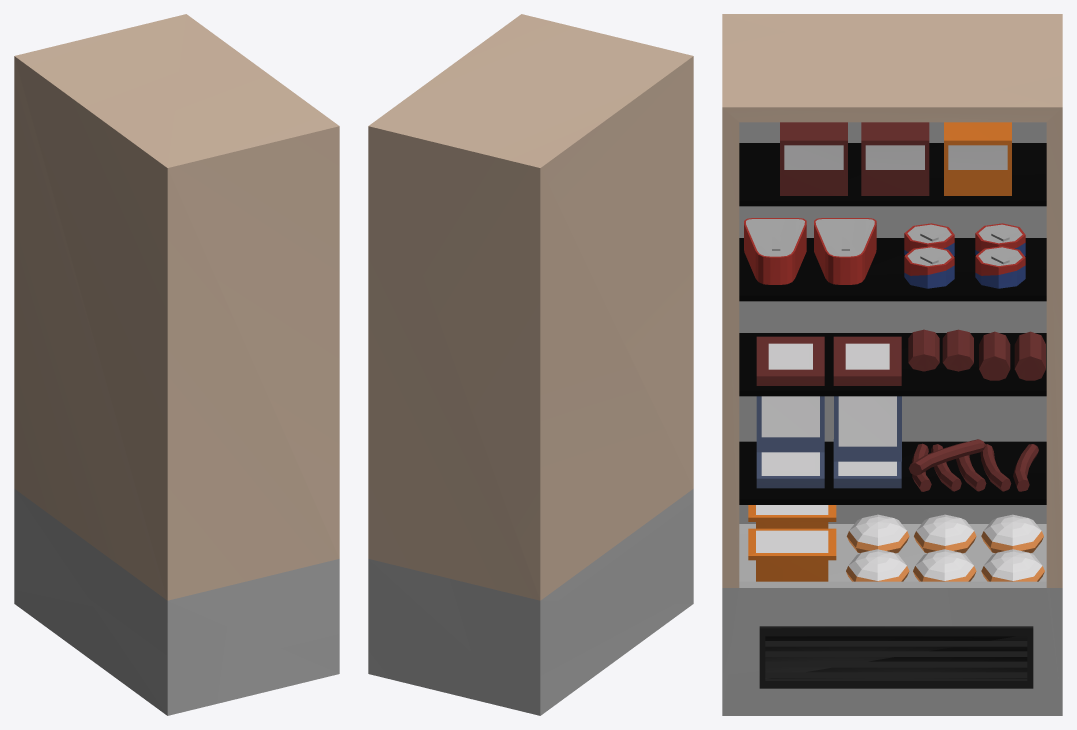
Rendered from SM_shopFreezer_01.glb.
The picture shows the model from 3 angles, left to right: view 1: azimuth 30°, elevation 25°; view 2: azimuth 150°, elevation 25°; view 3: azimuth 270°, elevation 25°; orthographic projection. The views are drawn at different scales.
Parts seen in each view (by area): view 1: SM_shopFreezer_01; view 2: SM_shopFreezer_01; view 3: SM_shopFreezer_01.
Boxes of the visible parts, box(x1,y1,x2,y2) form: SM_shopFreezer_01: box(14, 14, 339, 715); SM_shopFreezer_01: box(368, 14, 693, 715); SM_shopFreezer_01: box(722, 14, 1062, 715).
Size of the model in its own units: 0.6614 by 1.97 by 0.9968.
1 material, 1 textured.
